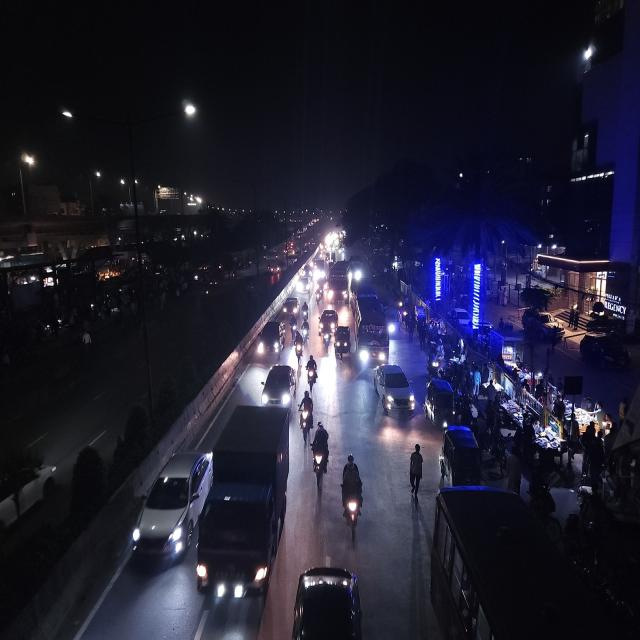bus: (426, 486, 586, 638), (351, 287, 390, 370), (327, 259, 351, 309)
car: (130, 448, 210, 567), (290, 562, 366, 640), (372, 361, 416, 422), (260, 360, 296, 408), (256, 317, 287, 363), (317, 305, 338, 348), (452, 304, 472, 330), (282, 294, 300, 320)
cng: (423, 374, 457, 429), (335, 321, 351, 365)
motorcycle: (339, 450, 366, 540), (310, 419, 332, 488), (298, 388, 314, 441), (306, 352, 319, 390), (292, 328, 304, 362), (300, 310, 310, 340), (302, 299, 310, 325), (314, 288, 323, 307)
pedestrian: (404, 439, 426, 504)
truck: (195, 403, 292, 623), (326, 259, 351, 309)
